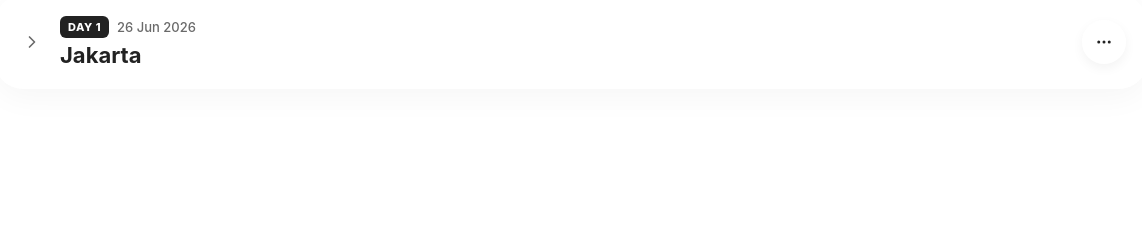
Scenario: DayTimeline › shows out_of_range day state
The width and height of the screenshot is (1142, 233).
Click the button named "toggle collapse": click(32, 42) [16,26,48,58]
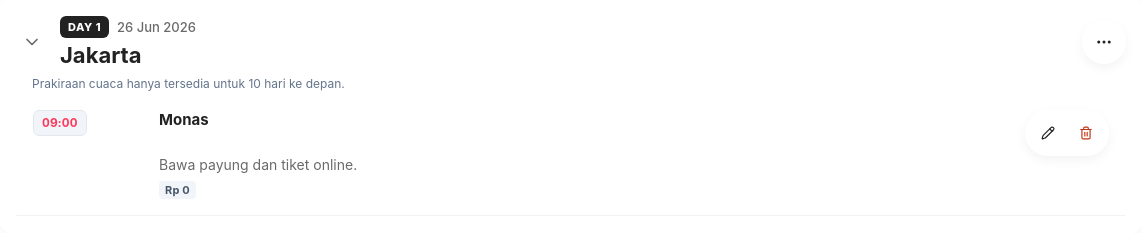
Expected: the text "Prakiraan cuaca hanya tersedia untuk 10 hari ke depan." is shown, [32,76,345,91]
